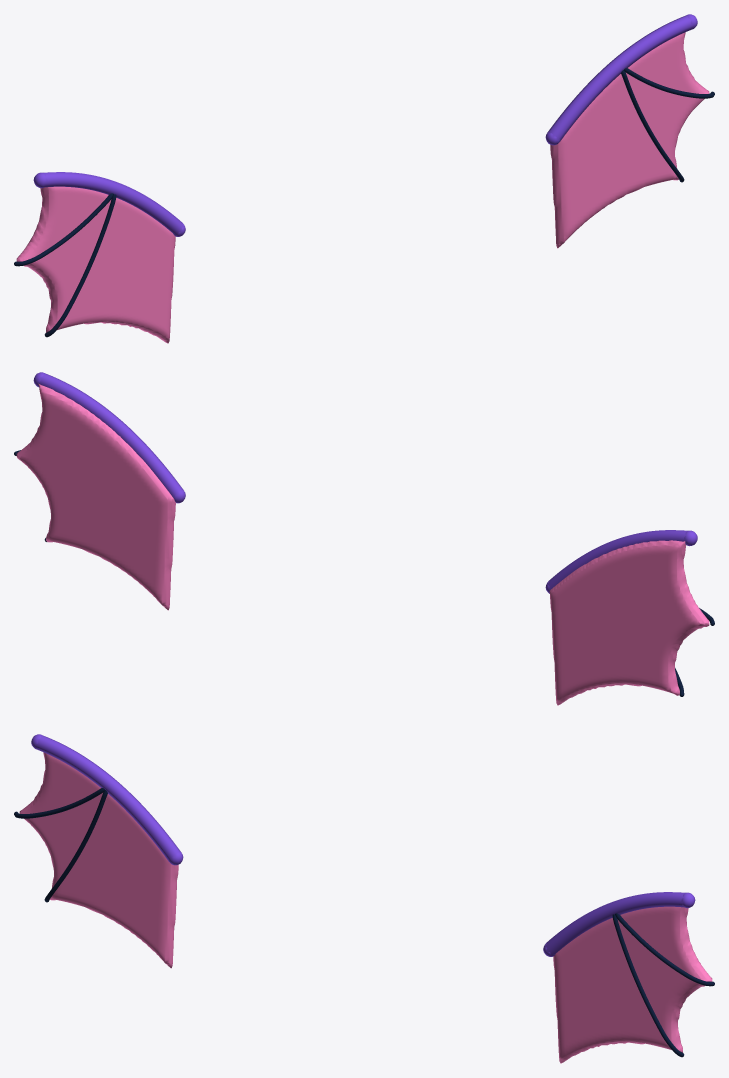
Rendered from wings-tiny.glb.
The picture shows the model from 3 angles, top to bottom: view 1: azimuth 30°, elevation 25°; view 2: azimuth 150°, elevation 25°; view 3: azimuth 330°, elevation 25°; orthographic projection.
Parts seen in each view (by area): view 1: wings_0_solid, wings_4_solid, wings_6_line, wings_2_line, wings_1_line, wings_5_line; view 2: wings_0_solid, wings_4_solid, wings_6_line, wings_2_line; view 3: wings_4_solid, wings_0_solid, wings_2_line, wings_6_line, wings_5_line, wings_1_line.
Boxes of the visible parts, x1,y1,x2,y2 form: wings_0_solid: [16, 186, 175, 343]; wings_4_solid: [550, 32, 709, 248]; wings_6_line: [545, 14, 697, 145]; wings_2_line: [33, 172, 185, 236]; wings_1_line: [14, 193, 116, 337]; wings_5_line: [621, 68, 714, 182]; wings_0_solid: [549, 540, 709, 705]; wings_4_solid: [16, 383, 175, 610]; wings_6_line: [33, 372, 185, 503]; wings_2_line: [545, 530, 697, 593]; wings_4_solid: [553, 906, 712, 1063]; wings_0_solid: [19, 752, 178, 968]; wings_2_line: [31, 734, 183, 865]; wings_6_line: [543, 892, 695, 956]; wings_5_line: [612, 913, 714, 1057]; wings_1_line: [14, 788, 107, 902].
Bounding box in the file's own units: 1.64 × 0.457 × 0.0475.
